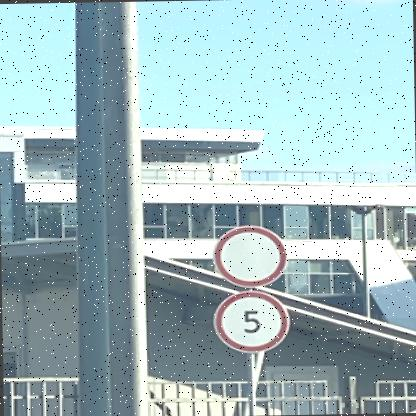speedlimit: (210, 289, 286, 353)
